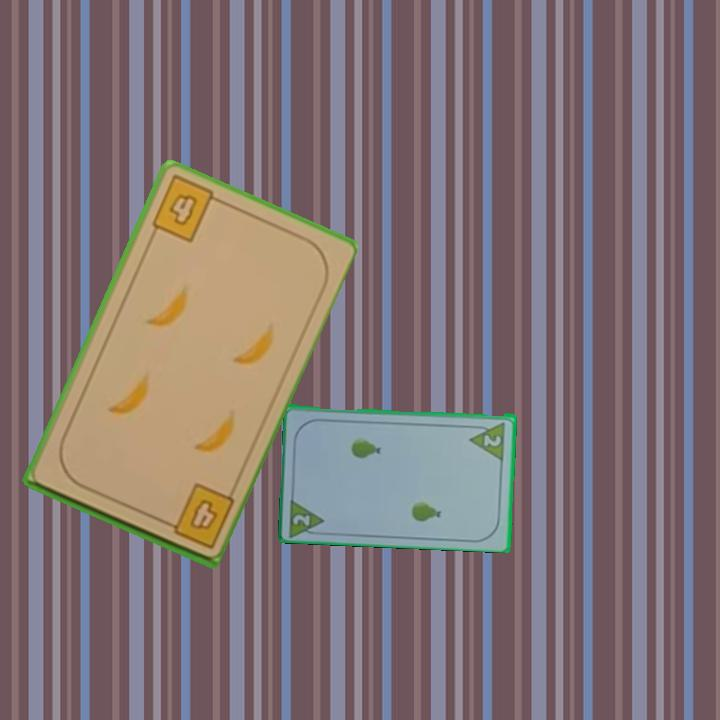2p: (286, 493, 328, 538), (480, 431, 504, 449)
4b: (157, 480, 237, 552), (147, 173, 225, 245)
